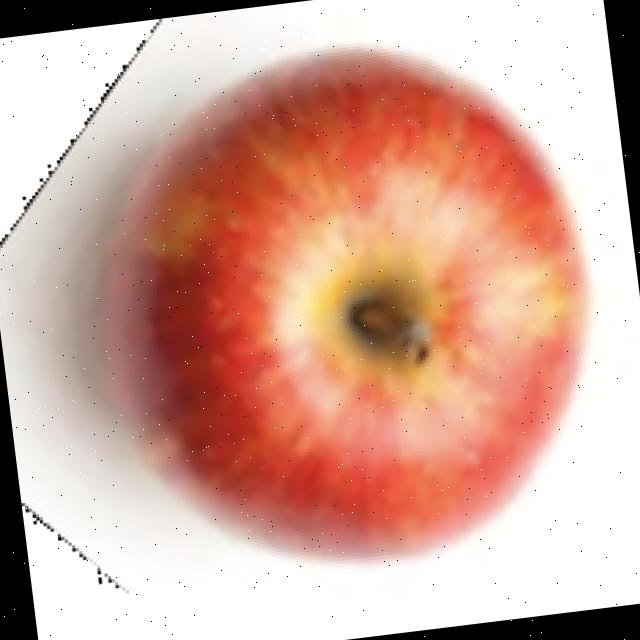apple: (0, 39, 599, 573)
